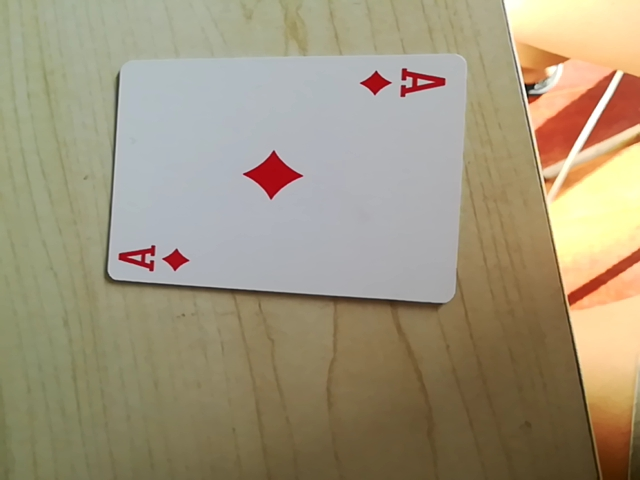fk a: (112, 236, 196, 281), (360, 65, 450, 103)
